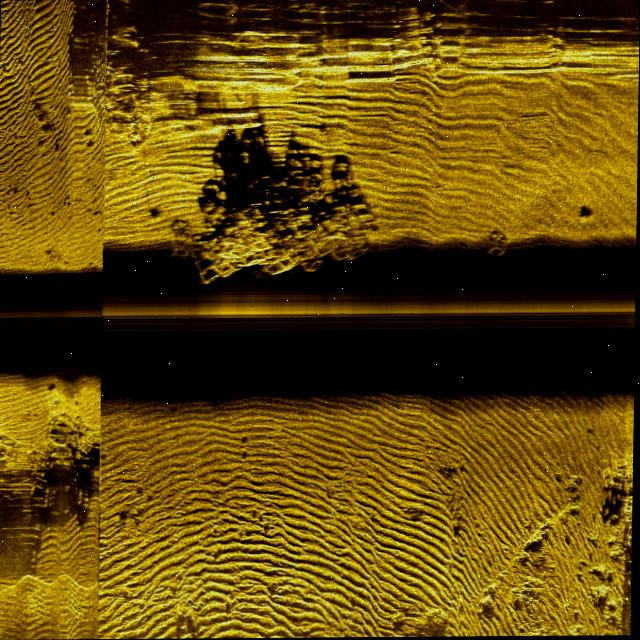artificial reef: (153, 183, 404, 305), (466, 226, 527, 264)
